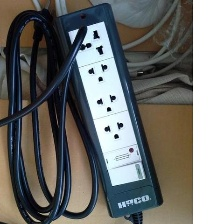three_eye_plug: (49, 1, 166, 220)
